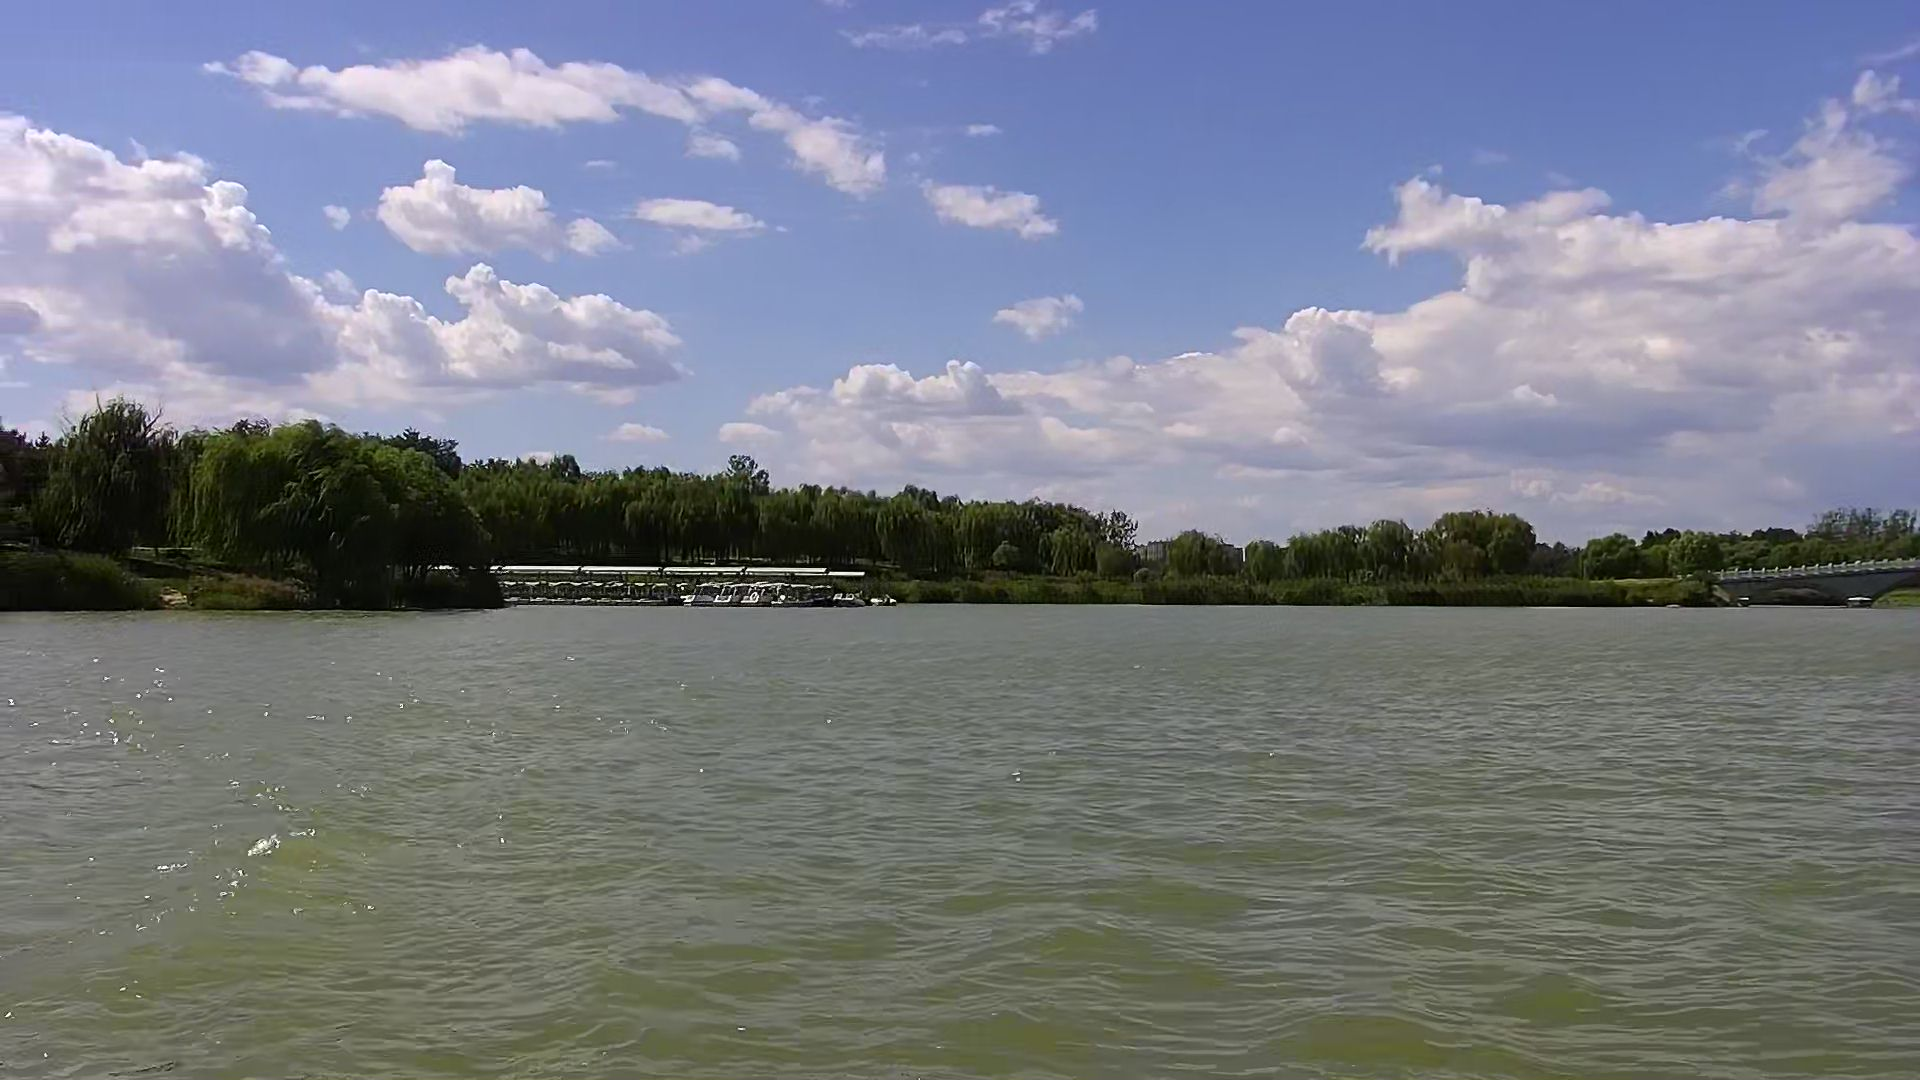bridge: (1720, 558, 1920, 611)
harbor: (493, 560, 890, 608)
